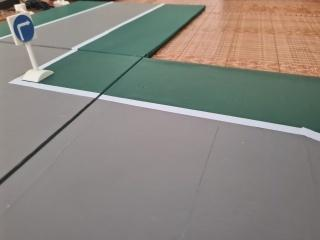right: (6, 10, 44, 46)
